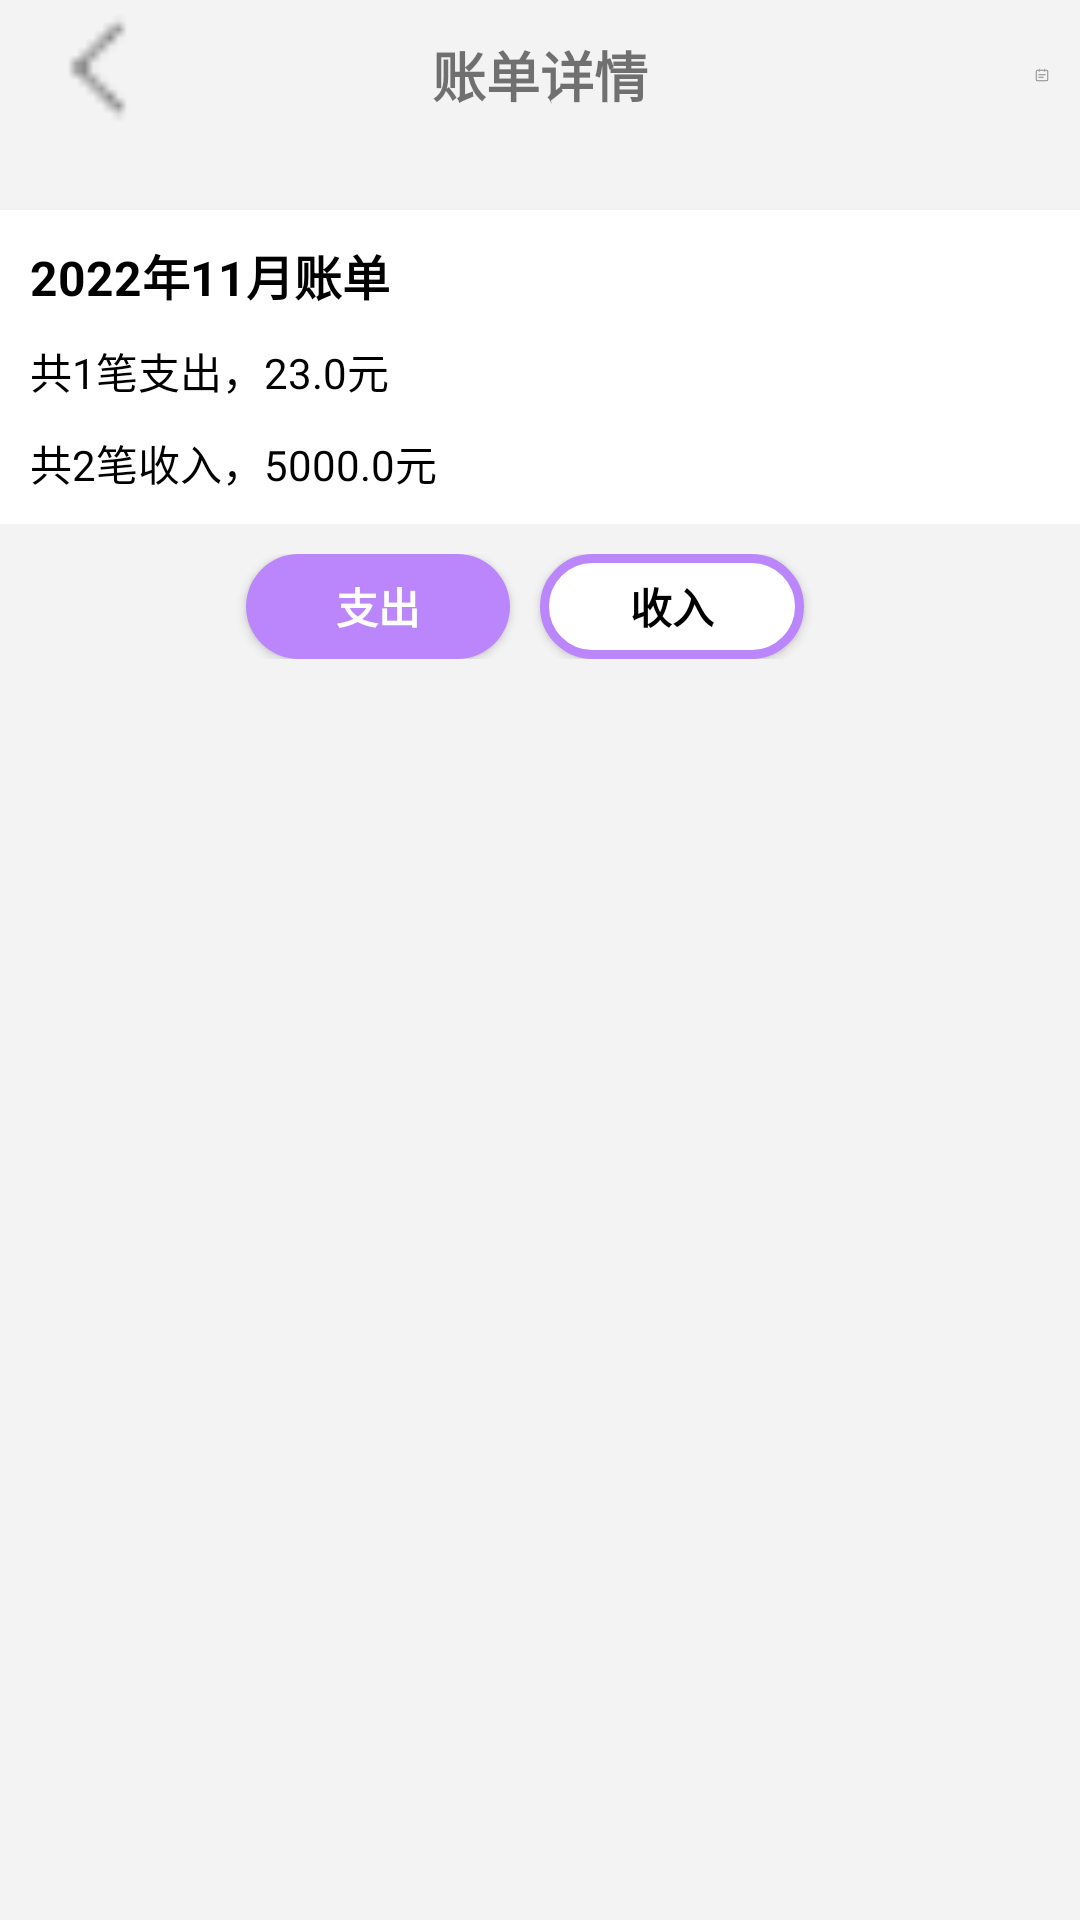

Where icons sit on this 1080px x 1920px app screen, as [x1=x1, y1=y1, x2=x2, y2=y2]:
it back: [x1=71, y1=22, x2=125, y2=114]
